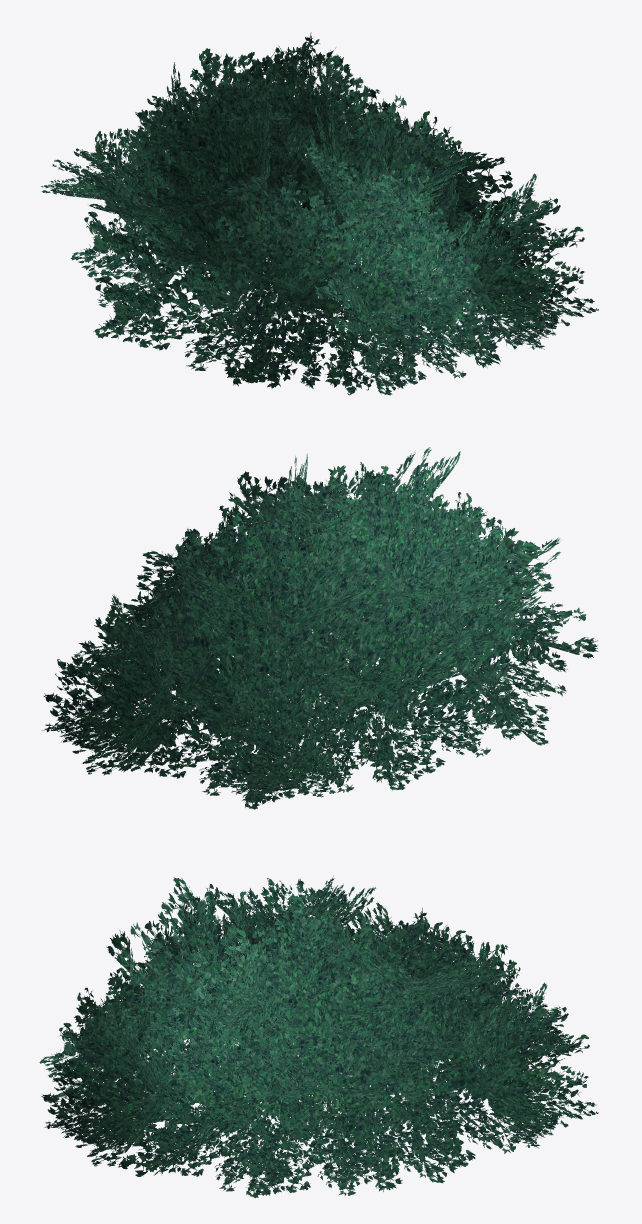
File: shrb_giantlickbush_blue_l0.fbx
The picture shows the model from 3 angles, top to bottom: view 1: azimuth 30°, elevation 25°; view 2: azimuth 150°, elevation 25°; view 3: azimuth 270°, elevation 25°; orthographic projection. The views are drawn at different scales.
Visible parts, largest first — view 1: mesh_node; view 2: mesh_node; view 3: mesh_node.
Part boxes in pixels (x1=…): mesh_node: x1=41, y1=32, x2=598, y2=395; mesh_node: x1=41, y1=447, x2=598, y2=809; mesh_node: x1=39, y1=876, x2=598, y2=1198.
Size of the model in its own units: 6.04 by 3.39 by 7.16.
